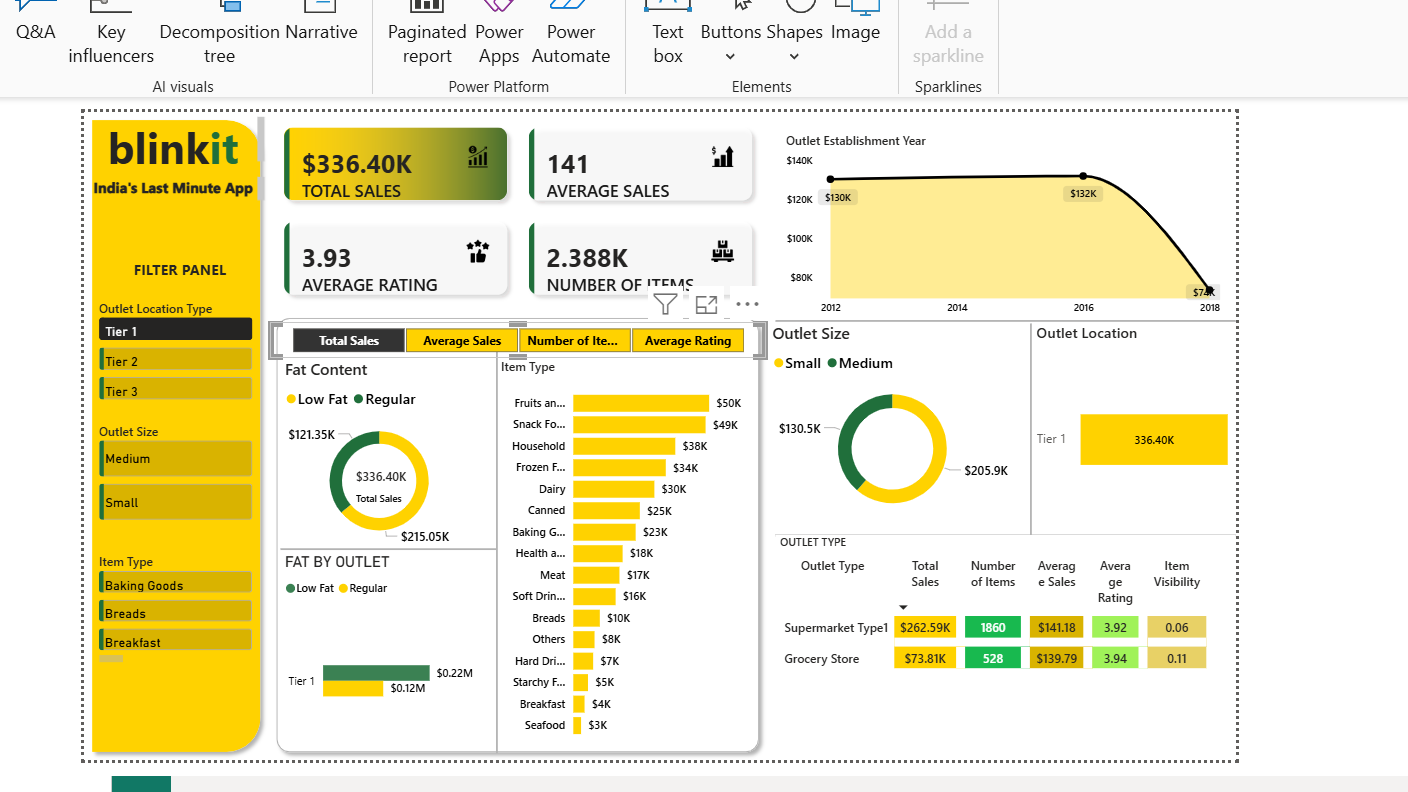

What the dashboard file says about the page in this screenshot:
{"tool":"powerbi","page":{"name":"Page 1","canvas":[1280,720],"ordinal":0},"visuals":[{"type":"shape","box":[0,0,205,720],"z":0},{"type":"textbox","box":[0,0,205.6,66.4],"z":1000},{"type":"textbox","box":[0,66.4,205.6,42.1],"z":2000},{"type":"cardVisual","fields":{"Data":["BlinkIT Grocery Data.Total Sales","BlinkIT Grocery Data.Average Sales","BlinkIT Grocery Data.Average Rating","BlinkIT Grocery Data.Number of Items"]},"box":[205.6,0,554,220],"z":3000},{"type":"shape","box":[205.6,220.2,553.8,500.3],"z":4000},{"type":"donutChart","title":"Fat Content","fields":{"Y":["BlinkIT Grocery Data.Number of Items"],"Category":["BlinkIT Grocery Data.Item Fat Content"]},"box":[218.6,273.6,218.6,217],"z":5000},{"type":"slicer","fields":{"Values":["Metrics .Metrics "]},"box":[207.3,233.2,550.5,40.5],"z":6000},{"type":"cardVisual","fields":{"Data":["BlinkIT Grocery Data.Number of Items"]},"box":[285,359.5,111.7,111.7],"z":7000},{"type":"clusteredBarChart","title":"FAT BY OUTLET","fields":{"Y":["BlinkIT Grocery Data.Number of Items"],"Category":["BlinkIT Grocery Data.Outlet Location Type"],"Series":["BlinkIT Grocery Data.Item Fat Content"]},"box":[218.6,490.6,218.6,229.9],"z":8000},{"type":"shape","box":[218.6,375.7,240,221.4],"z":9000},{"type":"shape","box":[421.4,267.1,74.3,445.7],"z":10000},{"type":"barChart","title":"Item Type","fields":{"Y":["BlinkIT Grocery Data.Number of Items"],"Category":["BlinkIT Grocery Data.Item Type"]},"box":[458.2,273.6,286.6,432.3],"z":11000},{"type":"lineChart","title":"Outlet Establishment Year","fields":{"Category":["BlinkIT Grocery Data.Outlet Establishment Year"],"Y":["BlinkIT Grocery Data.Total Sales"]},"box":[775.6,21,492.2,212.1],"z":12000},{"type":"donutChart","title":"Outlet Size","fields":{"Y":["BlinkIT Grocery Data.Total Sales"],"Category":["BlinkIT Grocery Data.Outlet Size"]},"box":[760,232.9,275.7,225.7],"z":13000},{"type":"funnel","title":"Outlet Location","fields":{"Y":["Sum(BlinkIT Grocery Data.Sales)"],"Category":["BlinkIT Grocery Data.Outlet Location Type"]},"box":[1052.9,232.9,227.1,238.6],"z":14000},{"type":"shape","box":[1015.7,234.3,74.3,237.1],"z":15000},{"type":"shape","box":[768.6,452.9,511.4,34.3],"z":16000},{"type":"shape","box":[768.6,215.7,511.4,34.3],"z":17000},{"type":"pivotTable","title":"OUTLET TYPE","fields":{"Rows":["BlinkIT Grocery Data.Outlet Type"],"Values":["BlinkIT Grocery Data.Total Sales","BlinkIT Grocery Data.Number of Items","BlinkIT Grocery Data.Average Sales","BlinkIT Grocery Data.Average Rating","Avg(BlinkIT Grocery Data.Item Visibility)"]},"box":[768.6,470,511.4,250],"z":18000},{"type":"advancedSlicerVisual","fields":{"Values":["BlinkIT Grocery Data.Outlet Location Type"]},"box":[11.7,208.3,180,116.7],"z":19000},{"type":"advancedSlicerVisual","fields":{"Values":["BlinkIT Grocery Data.Outlet Size"]},"box":[11.7,345,180,113.3],"z":20000},{"type":"advancedSlicerVisual","fields":{"Values":["BlinkIT Grocery Data.Item Type"]},"box":[11.7,490,180,128.3],"z":21000},{"type":"textbox","box":[11.7,158.3,178.3,31.7],"z":22000}]}

Visuals, with their boxes on the page's 1280x720 design canvas (x1, y1, x2, y2). These are canvas units, not pixel positions in the 1408x792 screenshot, which may show the page scaled, cropped or inside an application window:
shape: 0, 0, 205, 720
textbox: 0, 0, 206, 66
textbox: 0, 66, 206, 108
cardVisual - BlinkIT Grocery Data.Total Sales x BlinkIT Grocery Data.Average Sales: 206, 0, 760, 220
shape: 206, 220, 759, 720
"Fat Content" donutChart: 219, 274, 437, 491
slicer - Metrics .Metrics : 207, 233, 758, 274
cardVisual - BlinkIT Grocery Data.Number of Items: 285, 360, 397, 471
"FAT BY OUTLET" clusteredBarChart: 219, 491, 437, 720
shape: 219, 376, 459, 597
shape: 421, 267, 496, 713
"Item Type" barChart: 458, 274, 745, 706
"Outlet Establishment Year" lineChart: 776, 21, 1268, 233
"Outlet Size" donutChart: 760, 233, 1036, 459
"Outlet Location" funnel: 1053, 233, 1280, 472
shape: 1016, 234, 1090, 471
shape: 769, 453, 1280, 487
shape: 769, 216, 1280, 250
"OUTLET TYPE" pivotTable: 769, 470, 1280, 720
advancedSlicerVisual - BlinkIT Grocery Data.Outlet Location Type: 12, 208, 192, 325
advancedSlicerVisual - BlinkIT Grocery Data.Outlet Size: 12, 345, 192, 458
advancedSlicerVisual - BlinkIT Grocery Data.Item Type: 12, 490, 192, 618
textbox: 12, 158, 190, 190
